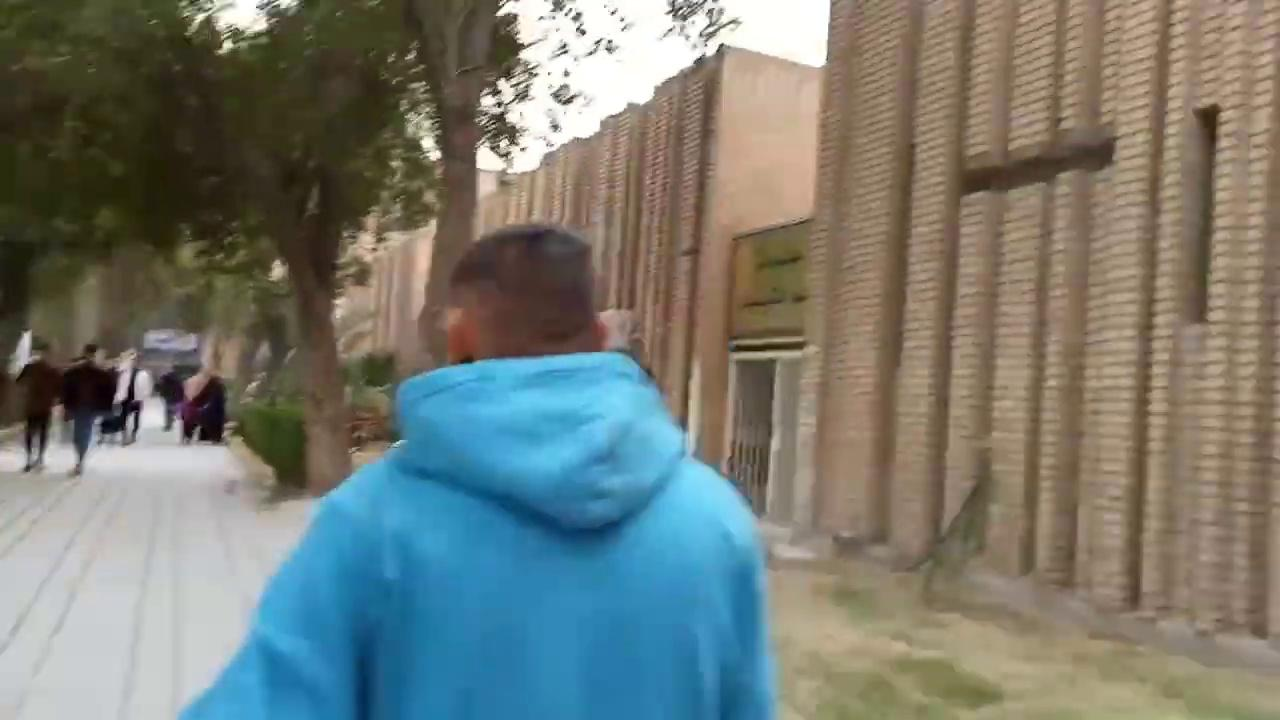person: (176, 222, 778, 719), (14, 339, 64, 472)
tree: (3, 0, 740, 494), (352, 0, 741, 368), (168, 1, 444, 496), (0, 0, 203, 360)
